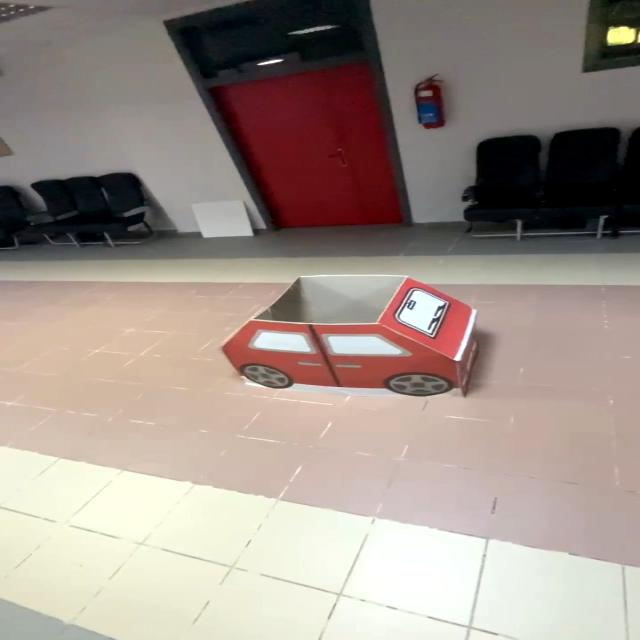red_car: (187, 264, 533, 423)
